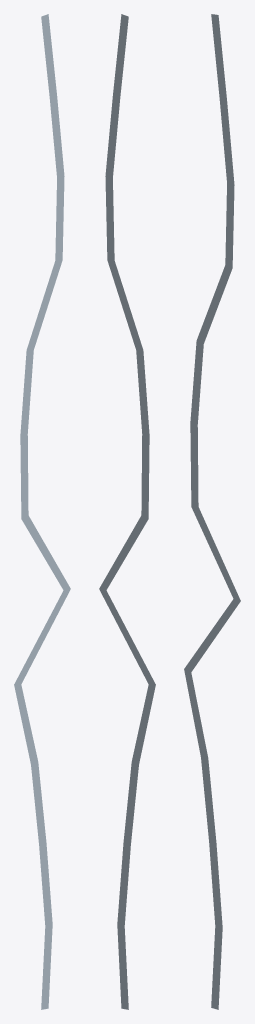
File: LightningStrike_Lightning1.fbx
3 renders of one model, left to right at view 1: azimuth 30°, elevation 25°; view 2: azimuth 150°, elevation 25°; view 3: azimuth 330°, elevation 25°, orthographic.
Parts seen in each view (by area): view 1: PART_BranchedBolt1; view 2: PART_BranchedBolt1; view 3: PART_BranchedBolt1.
Part boxes in pixels (box(x1,y1,x2,y2)): PART_BranchedBolt1: box(14, 14, 70, 1009); PART_BranchedBolt1: box(99, 14, 155, 1009); PART_BranchedBolt1: box(184, 14, 240, 1009).
Size of the model in its own units: 27.55 by 460 by 7.5e-05.
